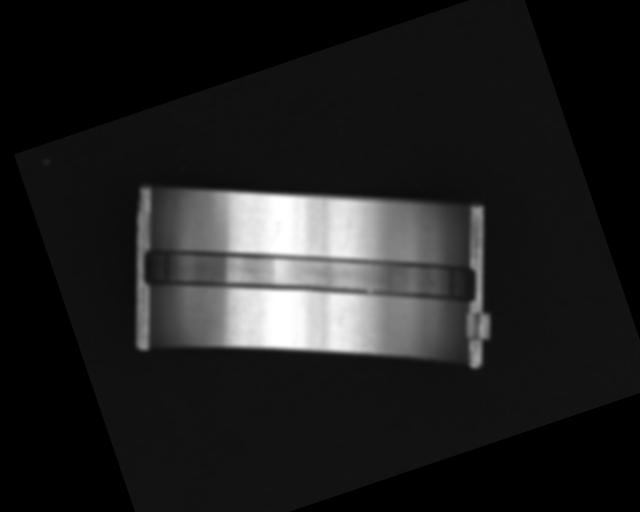gap: (135, 155, 483, 397)
nick: (337, 207, 362, 241)
